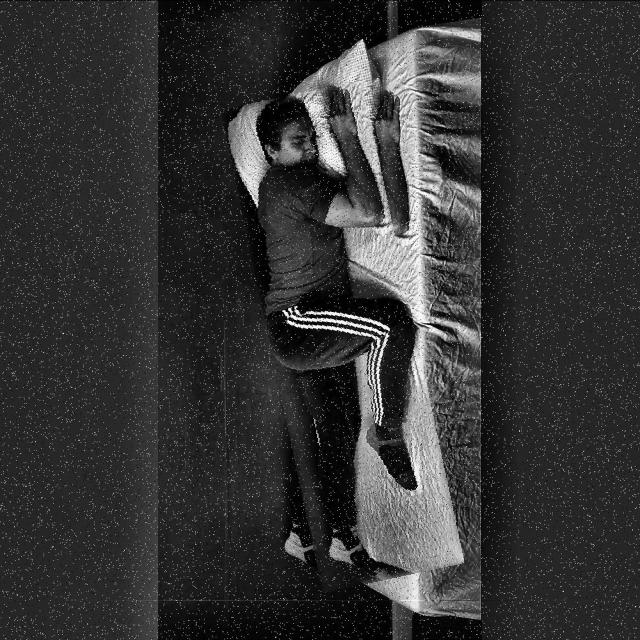Not_Supine: (256, 88, 416, 581)
